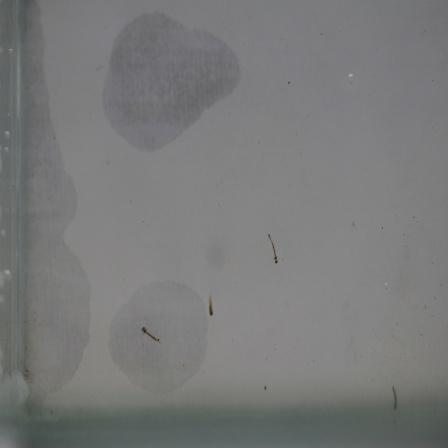Jentik-Nyamuk: (264, 228, 283, 269), (139, 321, 165, 346), (202, 289, 219, 323)
